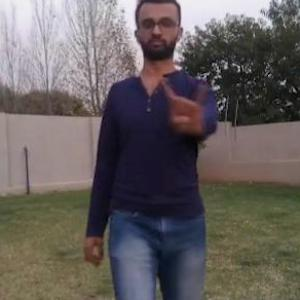takeoff-hand: (158, 70, 215, 130)
